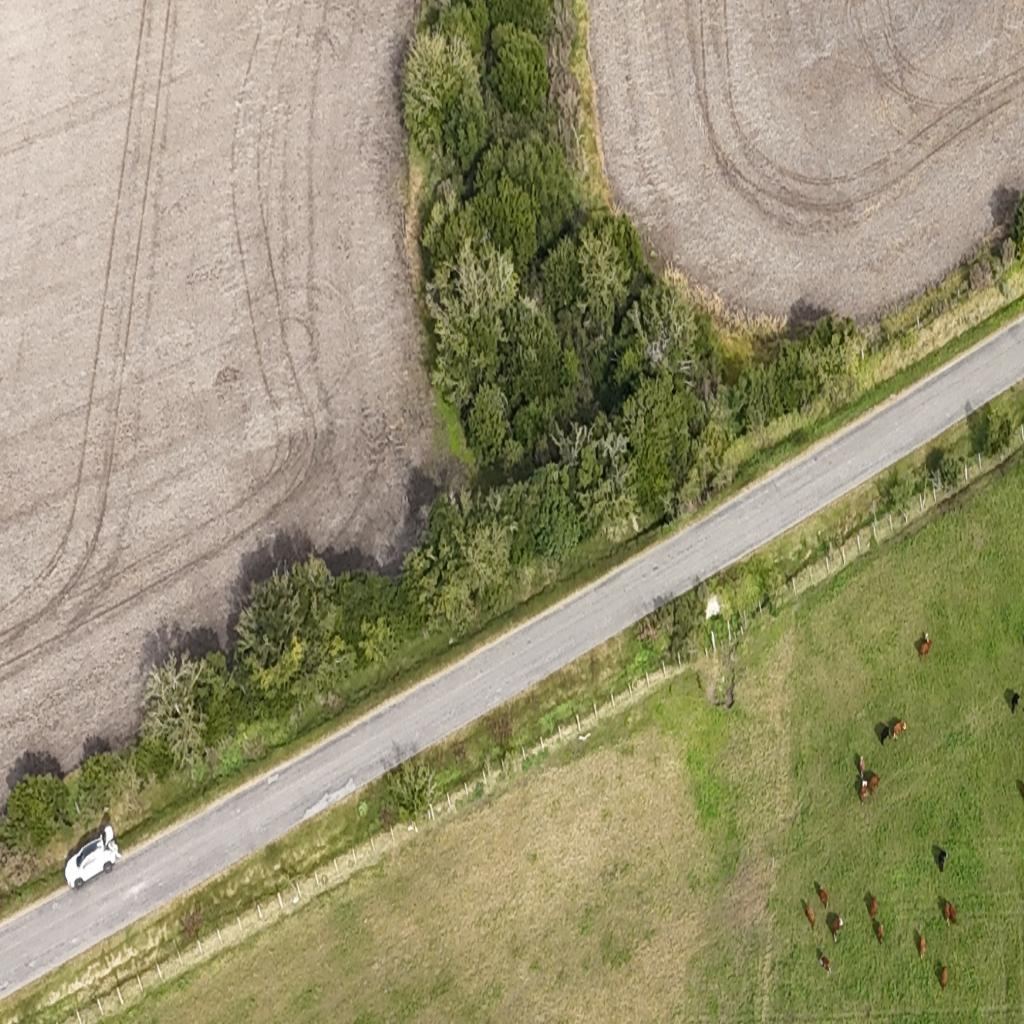cow: (827, 912, 844, 944), (915, 629, 932, 658), (890, 719, 908, 741), (1006, 692, 1022, 716), (935, 847, 948, 873), (868, 771, 880, 798), (856, 778, 868, 804), (936, 961, 947, 989), (804, 902, 815, 929), (873, 920, 884, 945), (819, 952, 831, 974), (818, 884, 828, 910), (868, 896, 878, 921), (881, 721, 892, 743), (948, 902, 958, 924), (918, 933, 926, 959), (943, 902, 952, 924), (858, 755, 865, 777), (860, 770, 868, 788)
